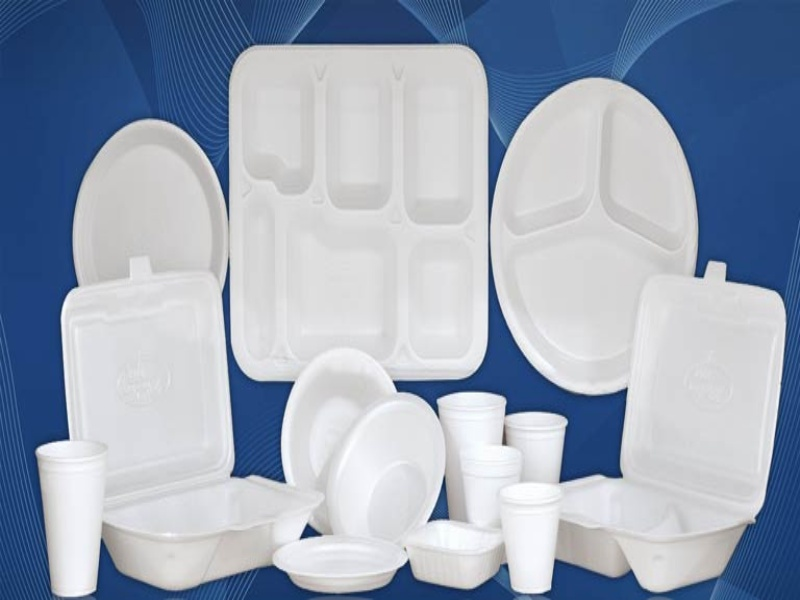Paper_plates_Recyc: (28, 24, 794, 596)
